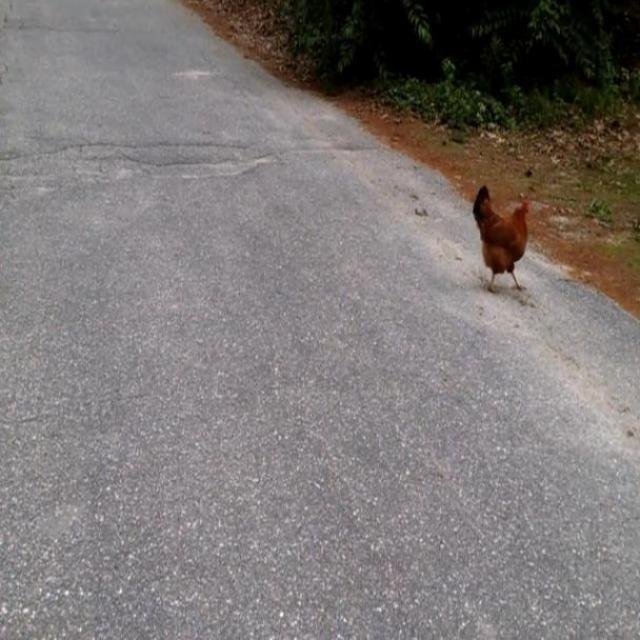Chicken: (472, 185, 530, 295)
